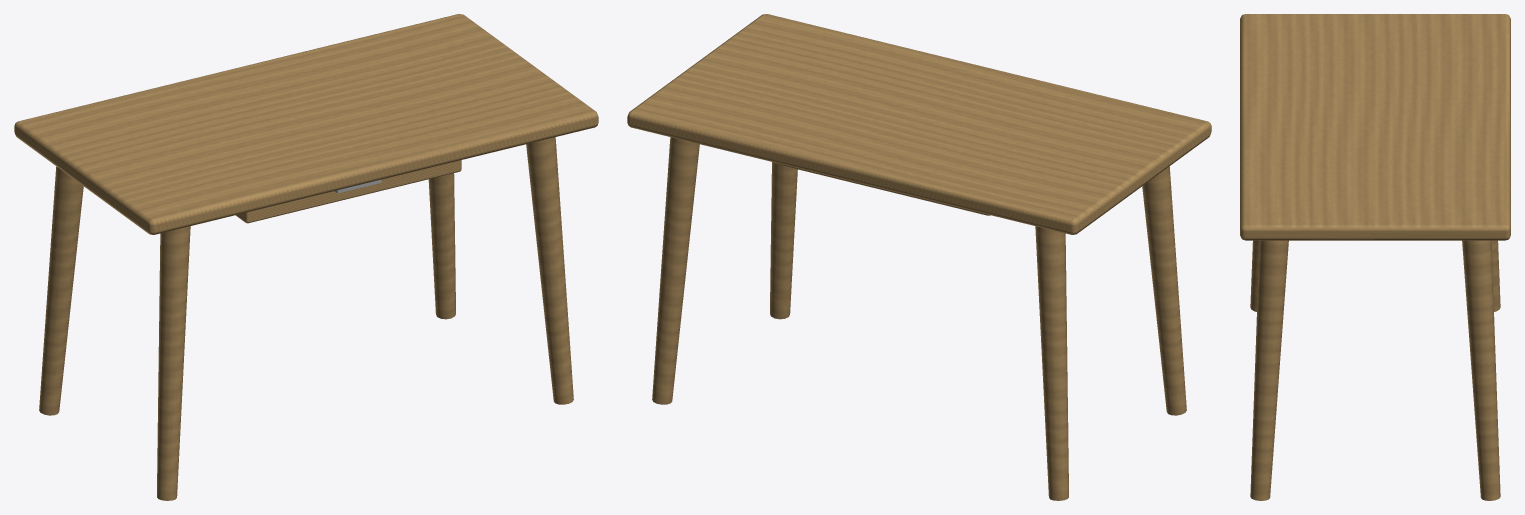
The model's file is desk_nordic_drawer-42fdc3cb6343.glb.
3 views of the same model, side by side, from view 1: azimuth 30°, elevation 25°; view 2: azimuth 150°, elevation 25°; view 3: azimuth 270°, elevation 25° (orthographic). The views are drawn at different scales.
Parts seen in each view (by area): view 1: surface_bamboo; view 2: surface_bamboo; view 3: surface_bamboo.
Boxes of the visible parts, bbox=[...] form: surface_bamboo: bbox=[14, 14, 598, 500]; surface_bamboo: bbox=[627, 14, 1211, 500]; surface_bamboo: bbox=[1240, 14, 1510, 500].
Size of the model in its own units: 1.22 by 0.7519 by 0.65.
2 materials, 1 textured.
